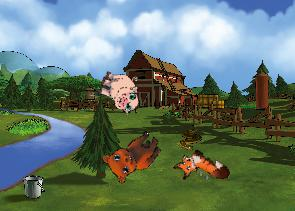bear: (97, 119, 166, 189)
fox: (170, 141, 232, 198)
pig: (93, 66, 145, 116)
